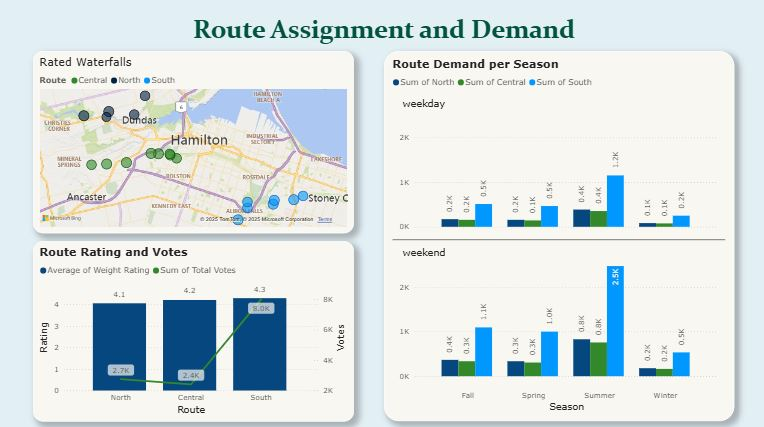

What the dashboard file says about the page in this screenshot:
{"tool":"powerbi","page":{"name":"Route Analysis","canvas":[1280,720],"ordinal":1},"visuals":[{"type":"map","title":"Rated Waterfalls","fields":{"Y":["Sheet1.Latitude"],"X":["Sheet1.Longitude"],"Size":["Avg(Sheet1.rating 2 dec)"],"Series":["Sheet1.Route"]},"box":[55.5,86.6,535,304.4],"z":0},{"type":"lineClusteredColumnComboChart","title":"Route Rating and Votes","fields":{"Category":["Sheet1.Route"],"Y2":["Sum(Sheet1.Total Votes)"],"Y":["Avg(Sheet1.Weight Rating)"]},"box":[55.5,402.7,535,300.5],"z":1000},{"type":"clusteredColumnChart","title":"Route Demand per Season","fields":{"Category":["Seasonal Demand.Season"],"Y":["Sum(Seasonal Demand.Route 1)","Sum(Seasonal Demand.Route 2)","Sum(Seasonal Demand.Route 3)"],"Rows":["Seasonal Demand.Day"]},"box":[640,86.6,583.6,616.7],"z":2000},{"type":"textbox","box":[0,18.5,1280,70],"z":3000}]}

Visuals, with their boxes in screenshot pixels (x1, y1, x2, y2), scaled from the page's 1280x720 canvas onto the 764x427 screenshot:
"Rated Waterfalls" map: <box>33,51,352,232</box>
"Route Rating and Votes" lineClusteredColumnComboChart: <box>33,239,352,417</box>
"Route Demand per Season" clusteredColumnChart: <box>382,51,730,417</box>
textbox: <box>0,11,763,52</box>
